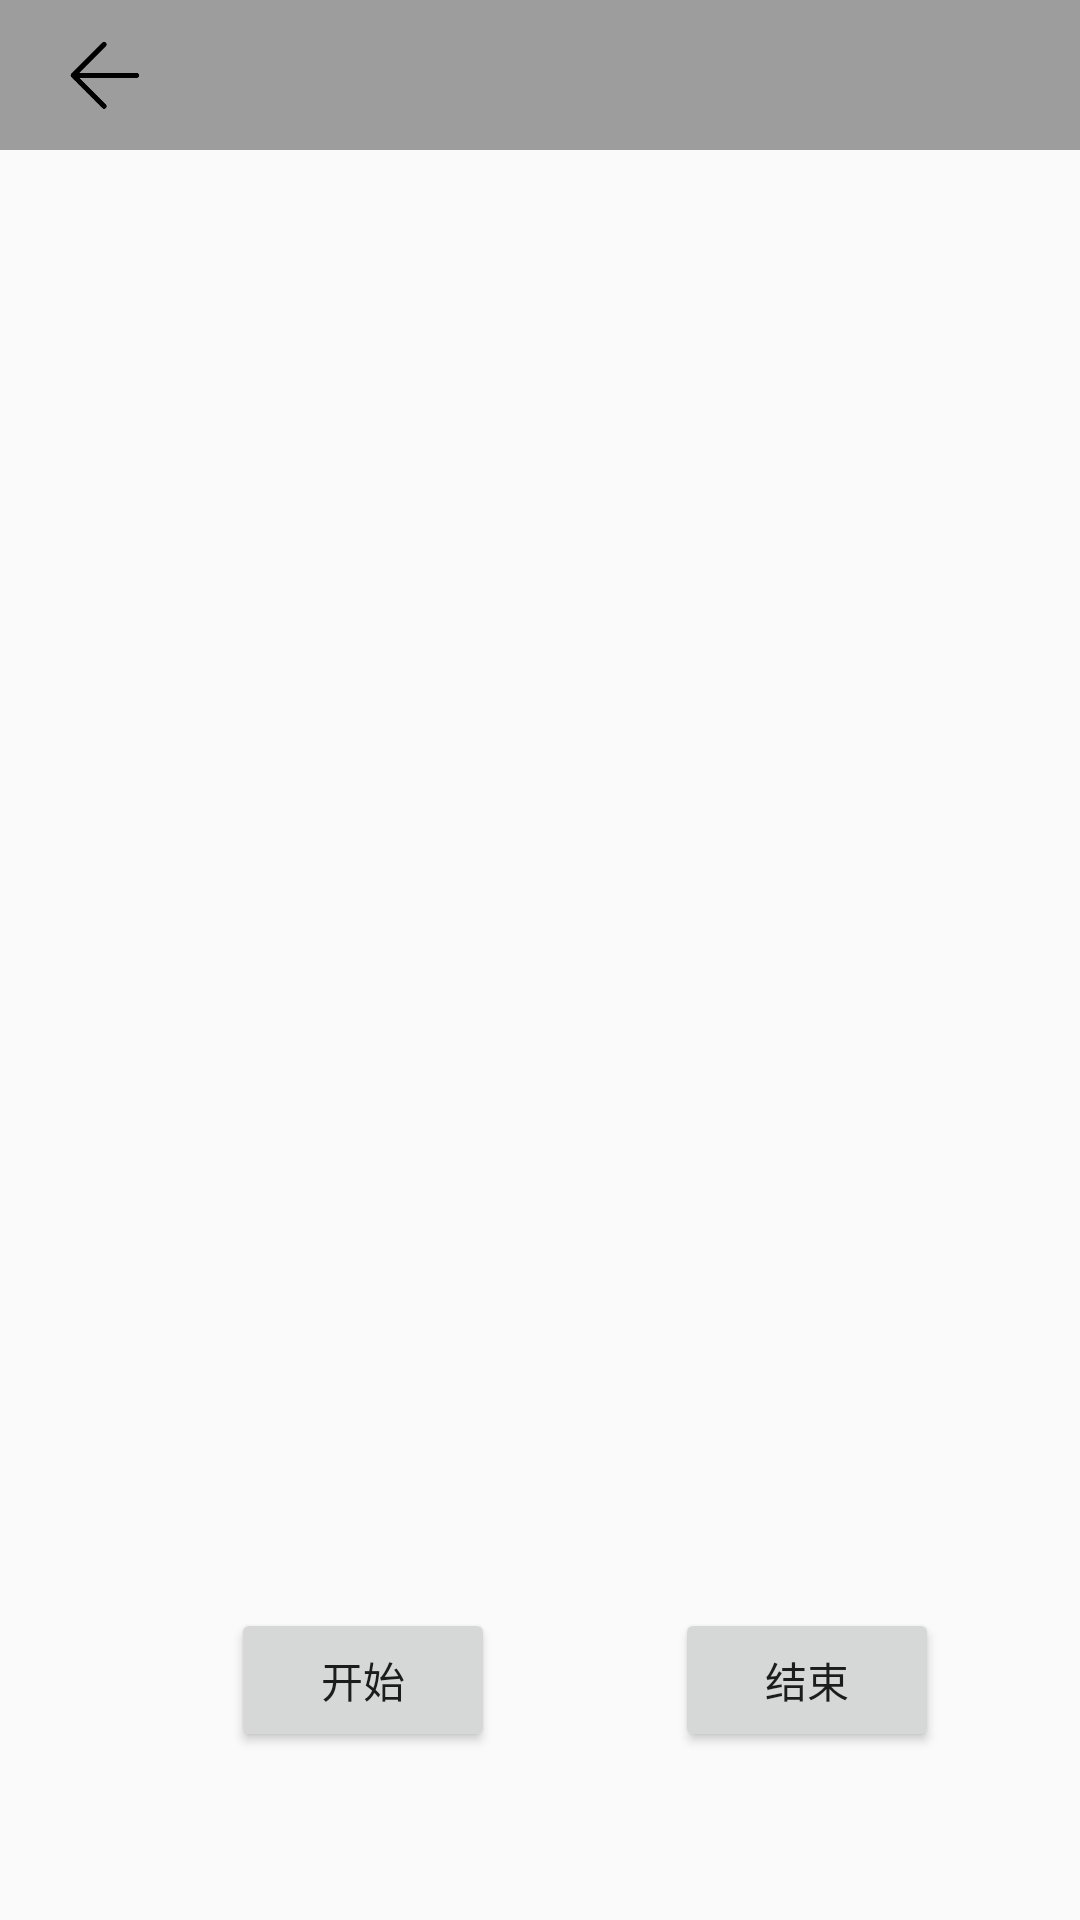

Locate icon controls on the screen. Image size 1080x1920, boxes as (x1, y1, x2, y2).
back: (70, 42, 139, 109)
